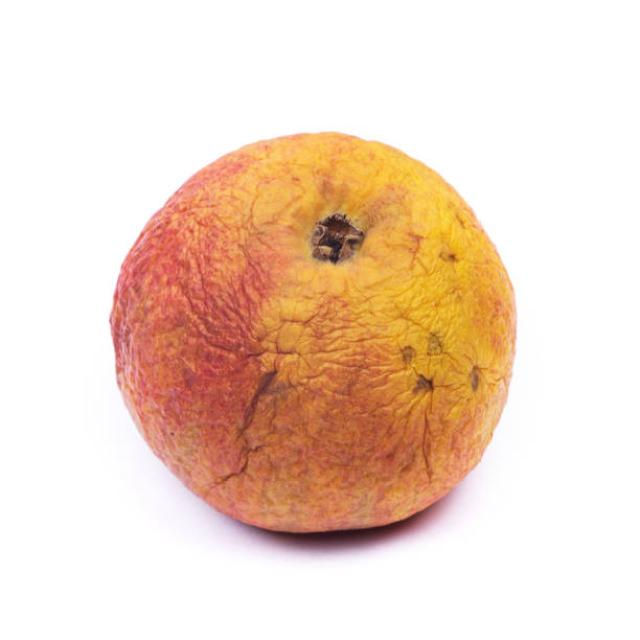overripe: (106, 129, 521, 540)
